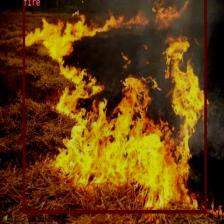fire: (22, 0, 206, 213)
